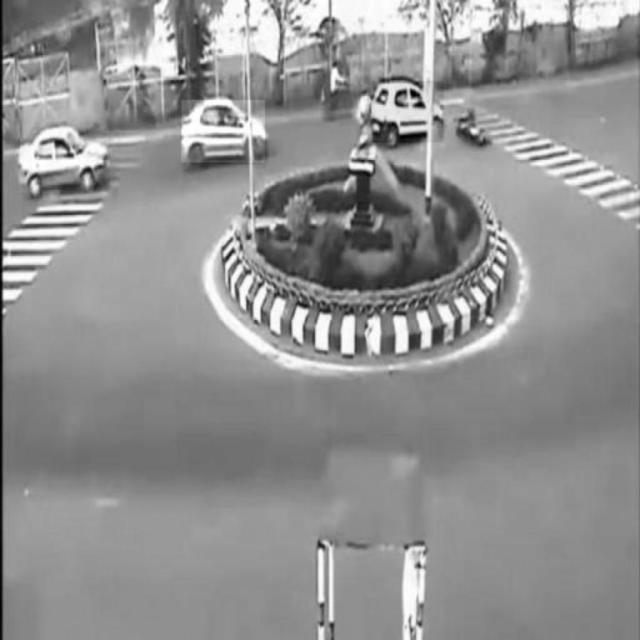vehicle: (21, 125, 109, 192), (182, 100, 265, 164), (373, 81, 444, 142), (319, 61, 360, 118)
